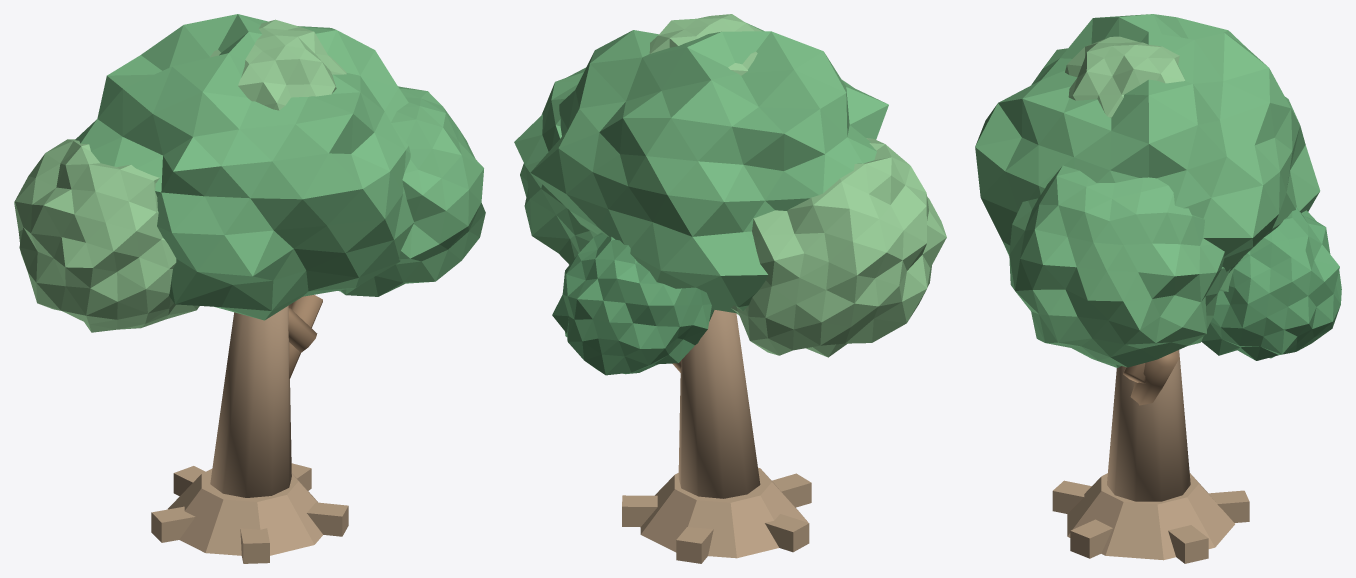
The model's file is Tree_A_01.glb.
3 renders of one model, left to right at view 1: azimuth 30°, elevation 25°; view 2: azimuth 150°, elevation 25°; view 3: azimuth 270°, elevation 25°, orthographic.
Parts seen in each view (by area): view 1: BW_TreeA_V01_Canopy_01, BW_TreeA_V01_Canopy_02, BW_TreeA_V01_Canopy_03, BW_TreeA_V01_Trunk, BW_TreeA_V01_Roots, BW_TreeA_V01_Canopy_04, BW_TreeA_V01_Branches; view 2: BW_TreeA_V01_Canopy_01, BW_TreeA_V01_Canopy_02, BW_TreeA_V01_Canopy_05, BW_TreeA_V01_Trunk, BW_TreeA_V01_Roots, BW_TreeA_V01_Canopy_03, BW_TreeA_V01_Canopy_04; view 3: BW_TreeA_V01_Canopy_01, BW_TreeA_V01_Canopy_03, BW_TreeA_V01_Canopy_05, BW_TreeA_V01_Roots, BW_TreeA_V01_Trunk, BW_TreeA_V01_Canopy_04, BW_TreeA_V01_Branches.
Boxes of the visible parts, left/top/right/bottom form: BW_TreeA_V01_Canopy_01: left=75, top=14, right=414, bottom=320; BW_TreeA_V01_Canopy_02: left=14, top=139, right=199, bottom=332; BW_TreeA_V01_Canopy_03: left=338, top=86, right=485, bottom=296; BW_TreeA_V01_Trunk: left=210, top=305, right=291, bottom=497; BW_TreeA_V01_Roots: left=151, top=463, right=348, bottom=563; BW_TreeA_V01_Canopy_04: left=210, top=19, right=346, bottom=110; BW_TreeA_V01_Branches: left=288, top=295, right=322, bottom=378; BW_TreeA_V01_Canopy_01: left=530, top=23, right=888, bottom=313; BW_TreeA_V01_Canopy_02: left=731, top=138, right=946, bottom=357; BW_TreeA_V01_Canopy_05: left=552, top=232, right=714, bottom=375; BW_TreeA_V01_Trunk: left=678, top=310, right=760, bottom=498; BW_TreeA_V01_Roots: left=622, top=467, right=811, bottom=563; BW_TreeA_V01_Canopy_03: left=514, top=67, right=593, bottom=264; BW_TreeA_V01_Canopy_04: left=649, top=14, right=761, bottom=75; BW_TreeA_V01_Canopy_01: left=975, top=14, right=1320, bottom=291; BW_TreeA_V01_Canopy_03: left=1009, top=165, right=1230, bottom=367; BW_TreeA_V01_Canopy_05: left=1201, top=207, right=1341, bottom=360; BW_TreeA_V01_Roots: left=1052, top=473, right=1249, bottom=563; BW_TreeA_V01_Trunk: left=1107, top=350, right=1190, bottom=501; BW_TreeA_V01_Canopy_04: left=1065, top=36, right=1184, bottom=117; BW_TreeA_V01_Branches: left=1123, top=351, right=1179, bottom=405.
Bounding box in the file's own units: 4.33 × 4.85 × 3.28.
